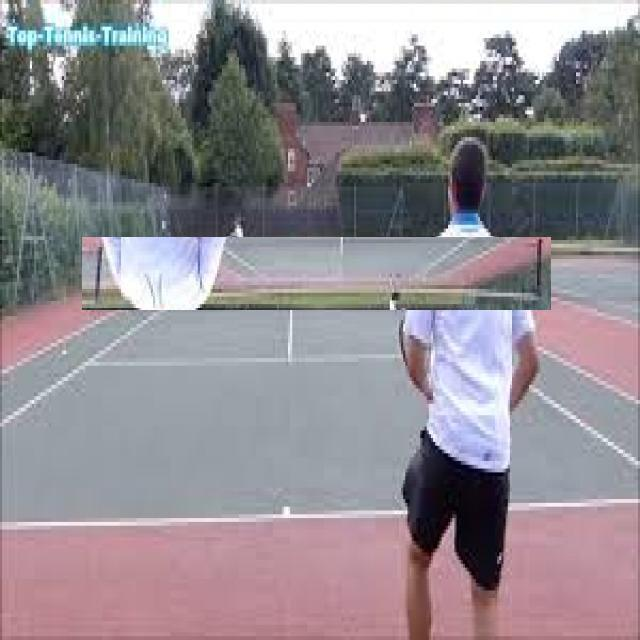court: (0, 276, 638, 575)
net: (82, 238, 551, 312)
player: (383, 126, 549, 640)
